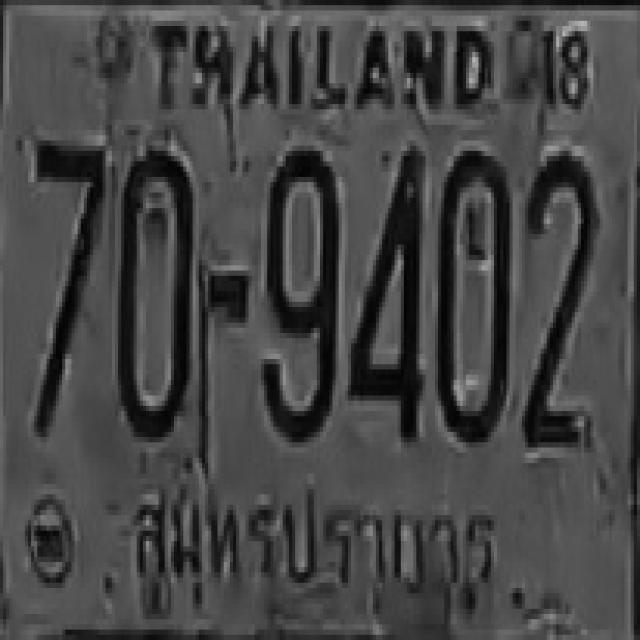0: (115, 146, 193, 437), (435, 146, 509, 442)
2: (520, 148, 595, 450)
4: (348, 143, 422, 440)
7: (34, 135, 106, 437)
9: (260, 146, 337, 437)
SamutPrakan: (126, 465, 514, 622)
